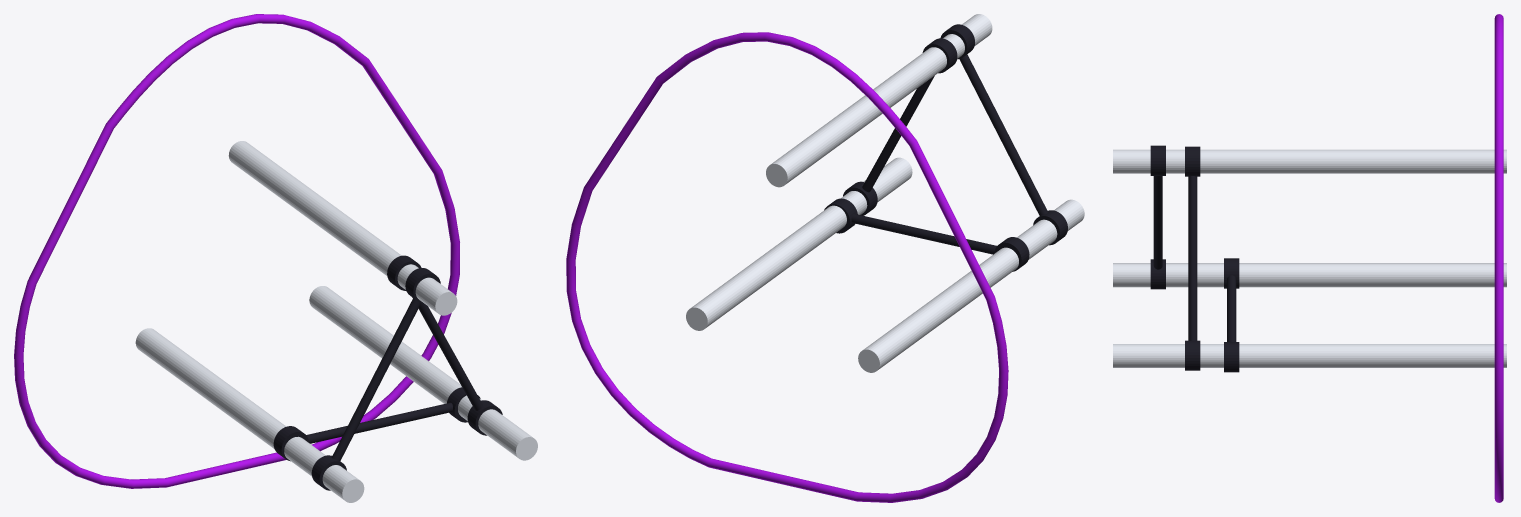
File: kpro-016.glb
3 renders of one model, left to right at view 1: azimuth 30°, elevation 25°; view 2: azimuth 150°, elevation 25°; view 3: azimuth 270°, elevation 25°, orthographic. The views are drawn at different scales.
Visible parts, largest first — view 1: _outline.021, circle.040, circle.041, circle.039, Cylinder.147, Cylinder.150, Cylinder.144; view 2: _outline.021, circle.039, circle.040, circle.041, Cylinder.147, Cylinder.150, Cylinder.144; view 3: circle.040, circle.041, circle.039, _outline.021, Cylinder.144, Cylinder.147, Cylinder.150, Cylinder.148, Cylinder.151, Cylinder.145, Cylinder.143.
Part boxes in pixels (bbox=[...]): _outline.021: bbox=[14, 14, 459, 488]; circle.040: bbox=[228, 141, 457, 315]; circle.041: bbox=[135, 328, 364, 502]; circle.039: bbox=[309, 286, 537, 460]; Cylinder.147: bbox=[331, 298, 420, 460]; Cylinder.150: bbox=[306, 402, 452, 443]; Cylinder.144: bbox=[412, 297, 482, 410]; _outline.021: bbox=[566, 32, 1008, 502]; circle.039: bbox=[686, 157, 912, 330]; circle.040: bbox=[766, 14, 992, 187]; circle.041: bbox=[858, 199, 1084, 372]; Cylinder.147: bbox=[959, 54, 1048, 215]; Cylinder.150: bbox=[851, 214, 996, 254]; Cylinder.144: bbox=[862, 75, 934, 192]; circle.040: bbox=[1113, 149, 1506, 173]; circle.041: bbox=[1113, 263, 1506, 287]; circle.039: bbox=[1113, 344, 1506, 367]; _outline.021: bbox=[1494, 14, 1503, 502]; Cylinder.144: bbox=[1188, 176, 1197, 340]; Cylinder.147: bbox=[1153, 176, 1162, 269]; Cylinder.150: bbox=[1227, 275, 1236, 341]; Cylinder.148: bbox=[1150, 145, 1165, 175]; Cylinder.151: bbox=[1224, 342, 1239, 372]; Cylinder.145: bbox=[1185, 146, 1200, 176]; Cylinder.143: bbox=[1185, 340, 1200, 370].
Bounding box in the file's own units: 3.23 × 3.15 × 2.6.
